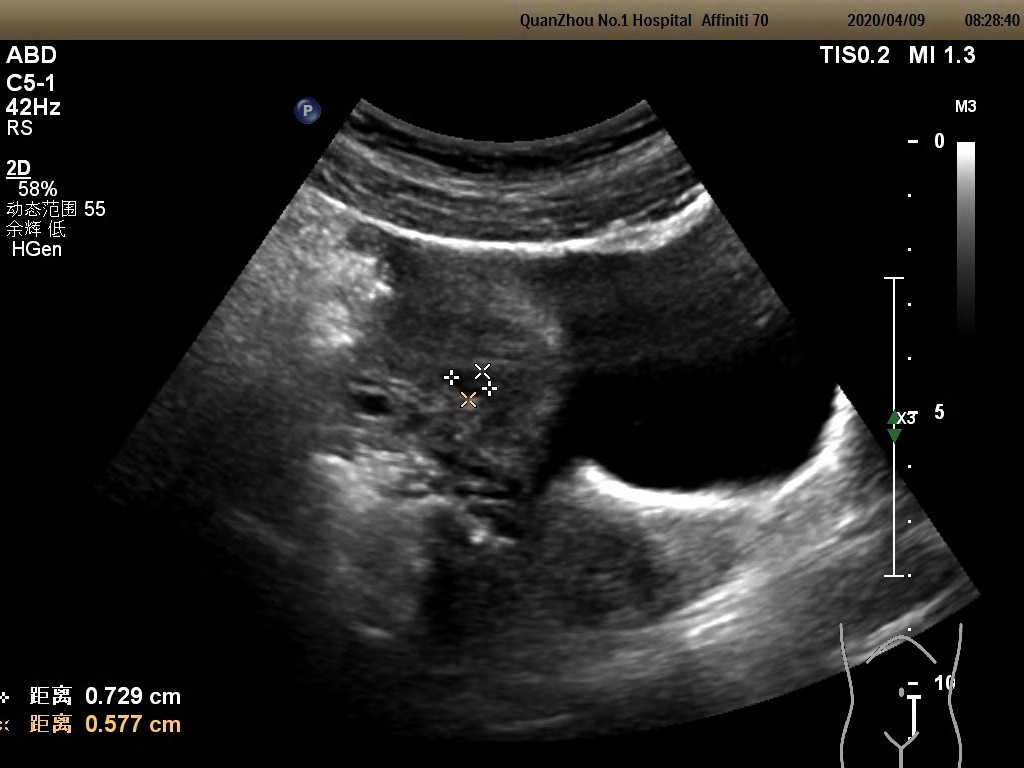肌瘤: (451, 371, 490, 395)
